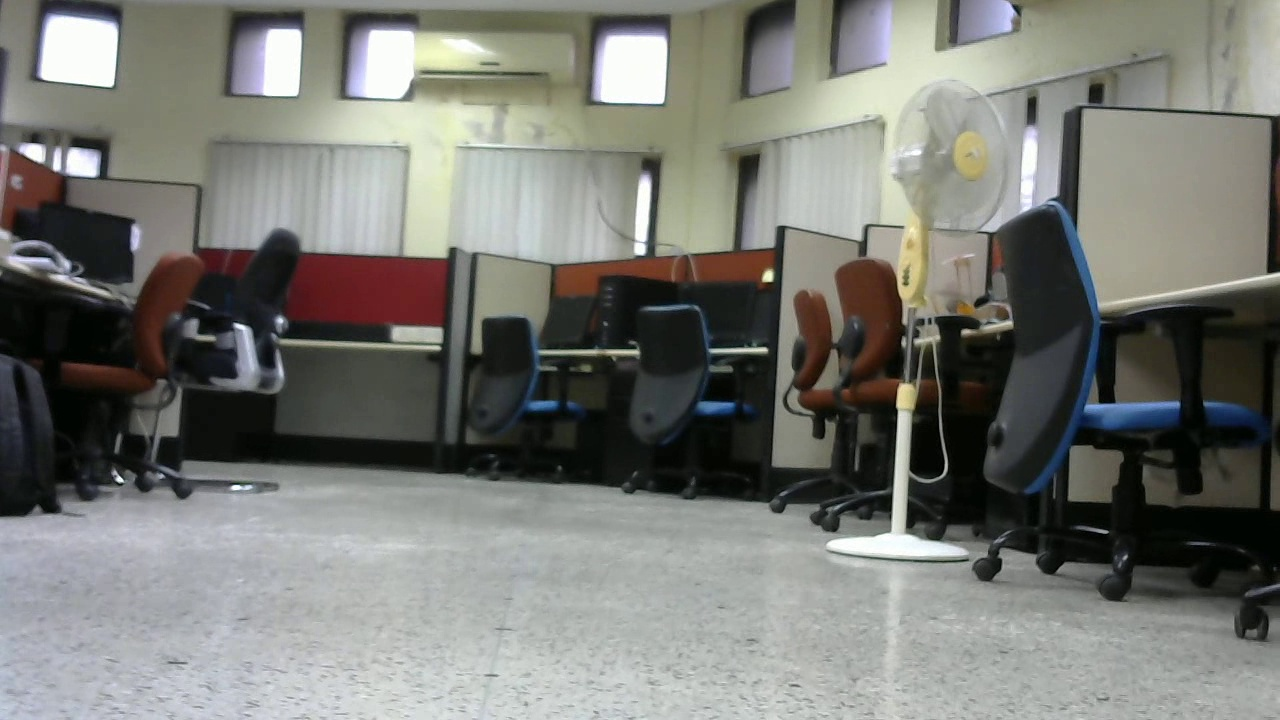chair: (962, 199, 1260, 587), (824, 245, 954, 524), (61, 247, 191, 469), (205, 224, 308, 503), (623, 304, 756, 499), (463, 312, 590, 483), (778, 272, 854, 515)
